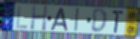A: (50, 8, 69, 32)
D: (90, 8, 108, 34)
H: (30, 5, 49, 33)
I: (74, 7, 81, 33)
L: (15, 4, 29, 30)
T: (111, 10, 125, 35)
